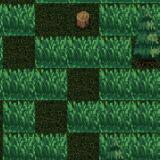Obstacle: (68, 4, 99, 37), (131, 36, 160, 68)
Slow: (35, 36, 131, 68), (67, 100, 160, 133), (0, 68, 67, 100), (100, 4, 160, 36), (99, 69, 160, 100), (3, 101, 34, 160), (100, 133, 160, 160), (0, 4, 35, 36), (33, 134, 67, 160)
